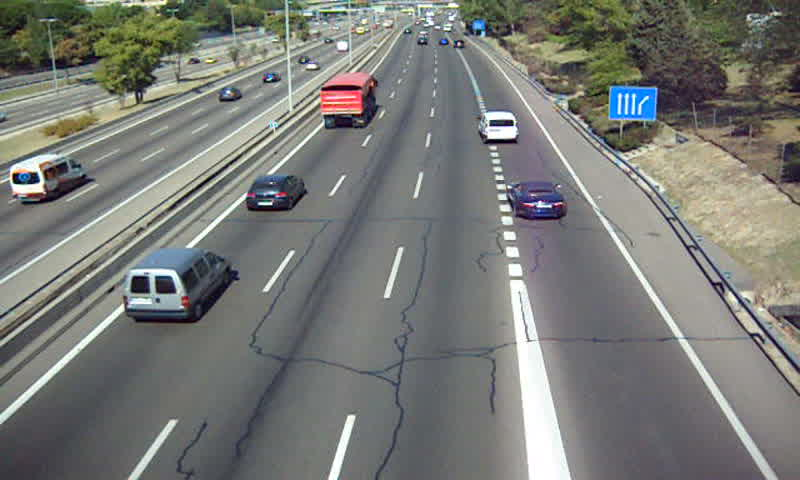car: (506, 182, 566, 219), (245, 176, 303, 210)
truck: (320, 72, 377, 128)
van: (122, 247, 232, 318), (477, 111, 520, 143)
